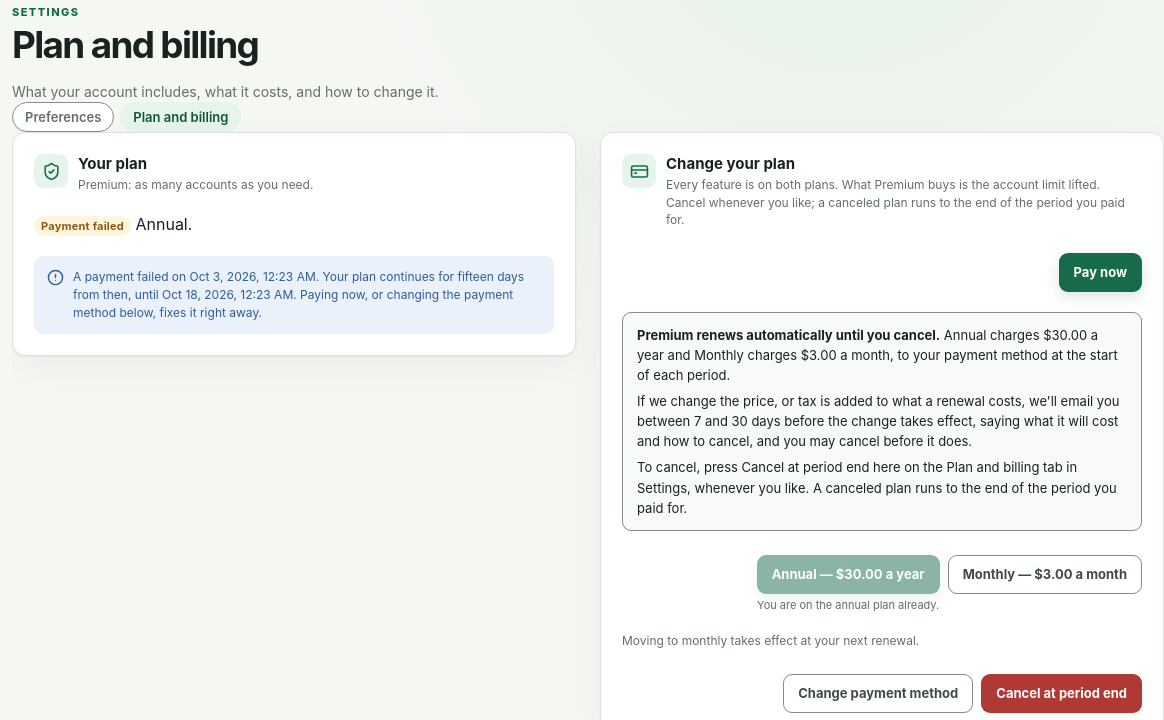
Test: the renewal terms › go with a payment that settles the plan somebody is on, which goes on renewing
The image size is (1164, 720).
Click the button "Pay now" at (1100, 272), box [1059,252,1142,292]
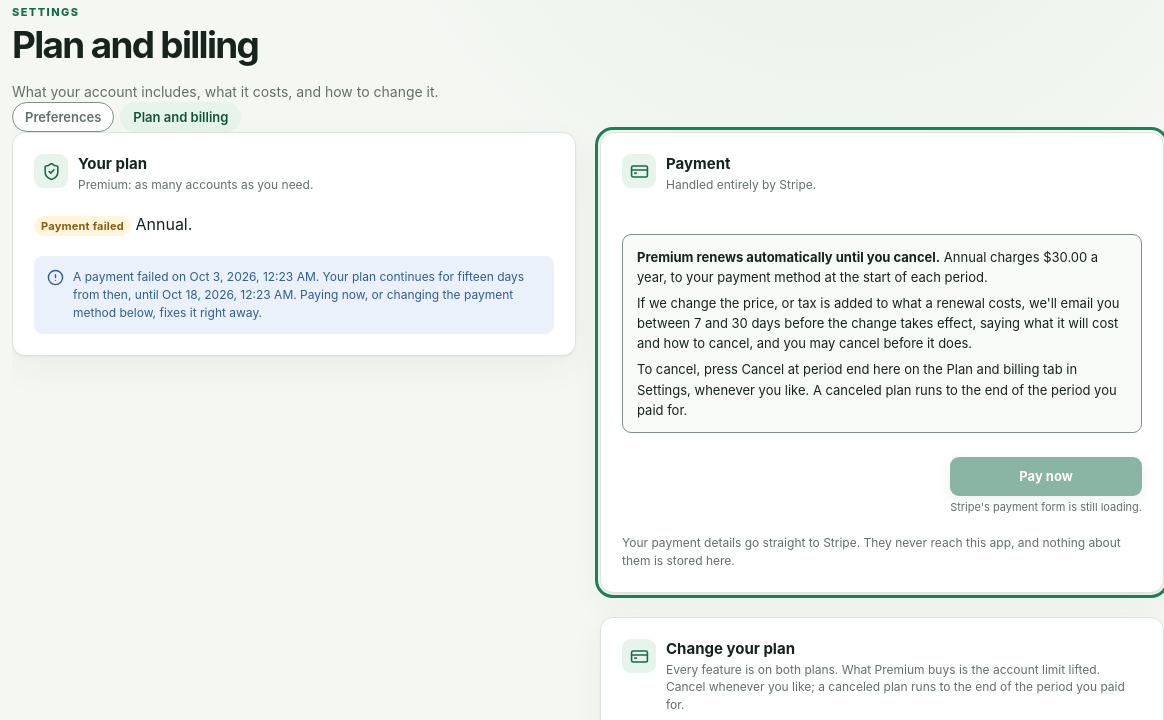
Expected: the text "renews automatically until you cancel" shows "Annual charges $30.00 a year, to your payment method", [622,234,1142,433]
